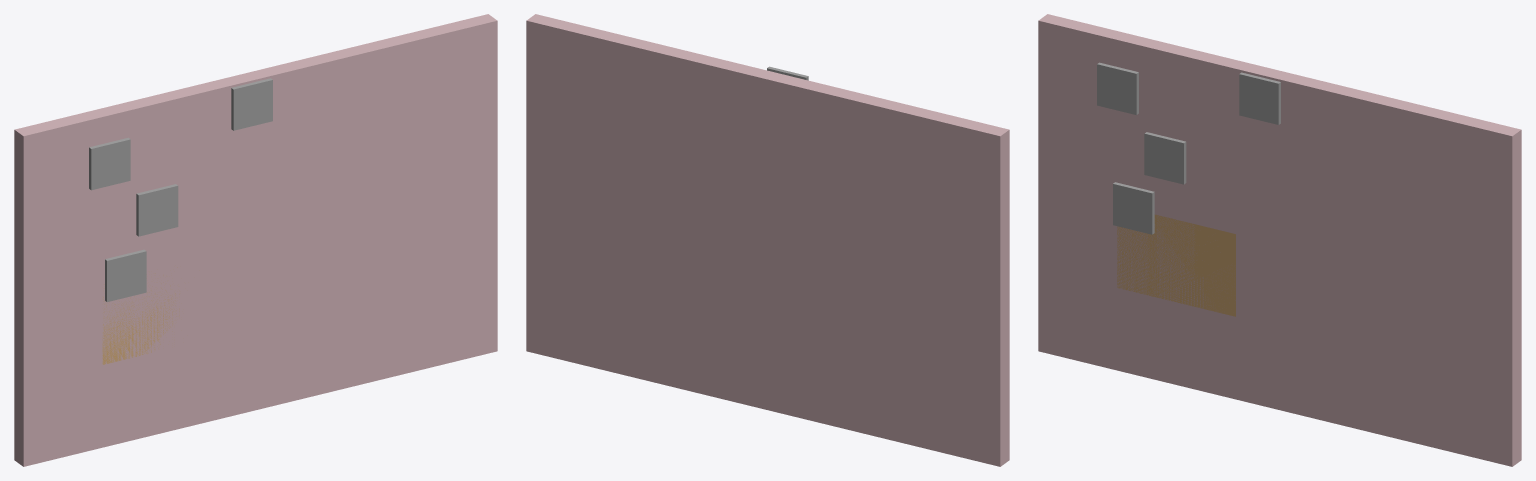
File: board.glb
The picture shows the model from 3 angles, left to right: view 1: azimuth 30°, elevation 25°; view 2: azimuth 150°, elevation 25°; view 3: azimuth 330°, elevation 25°; orthographic projection.
Parts seen in each view (by area): view 1: Substrate_Layer_0, Substrate_Layer_1, Component_Block4, Component_Block1, Component_Block2, Component_Block3; view 2: Substrate_Layer_0; view 3: Substrate_Layer_0, Substrate_Layer_1, Component_Block4, Component_Block2, Component_Block1, Component_Block3.
Boxes of the visible parts, x1,y1,x2,y2 form: Substrate_Layer_0: (14,14,497,466); Substrate_Layer_1: (102,267,179,364); Component_Block4: (136,184,178,236); Component_Block1: (231,78,272,130); Component_Block2: (105,249,146,302); Component_Block3: (89,137,130,190); Substrate_Layer_0: (526,14,1009,466); Substrate_Layer_0: (1038,14,1521,466); Substrate_Layer_1: (1117,214,1235,316); Component_Block4: (1144,132,1186,184); Component_Block2: (1113,182,1154,234); Component_Block1: (1239,72,1280,124); Component_Block3: (1097,62,1138,114).
Size of the model in its own units: 0.06 by 0.04 by 0.003.
